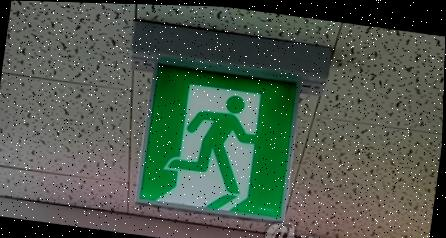emergency_exit: (134, 56, 302, 223)
